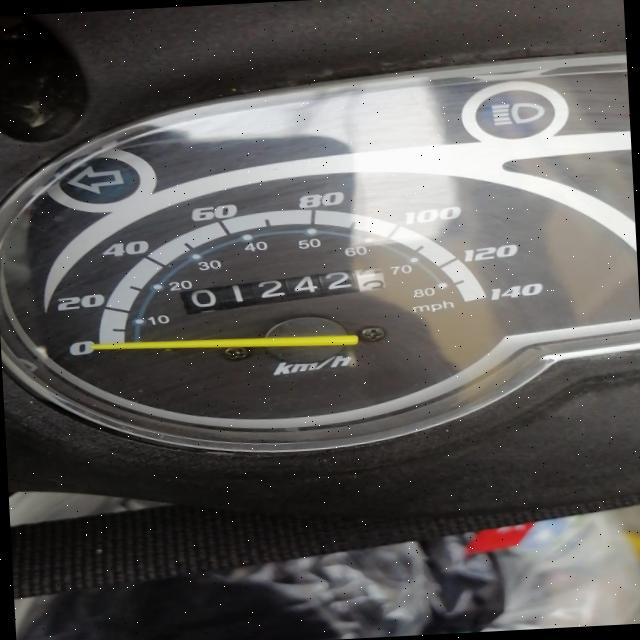odometer: (177, 264, 390, 317)
